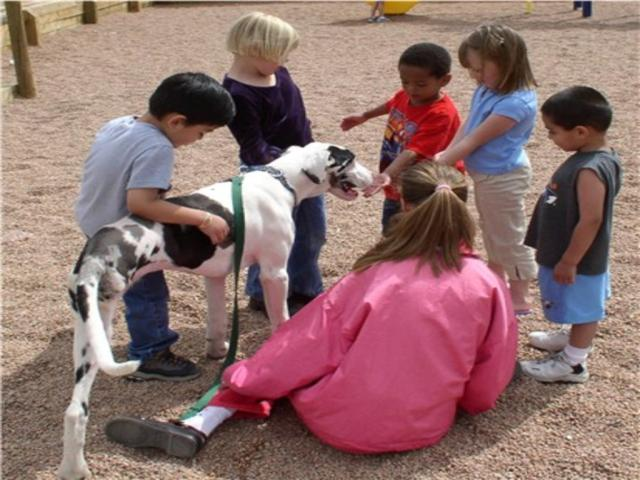Dog: (50, 140, 375, 479)
